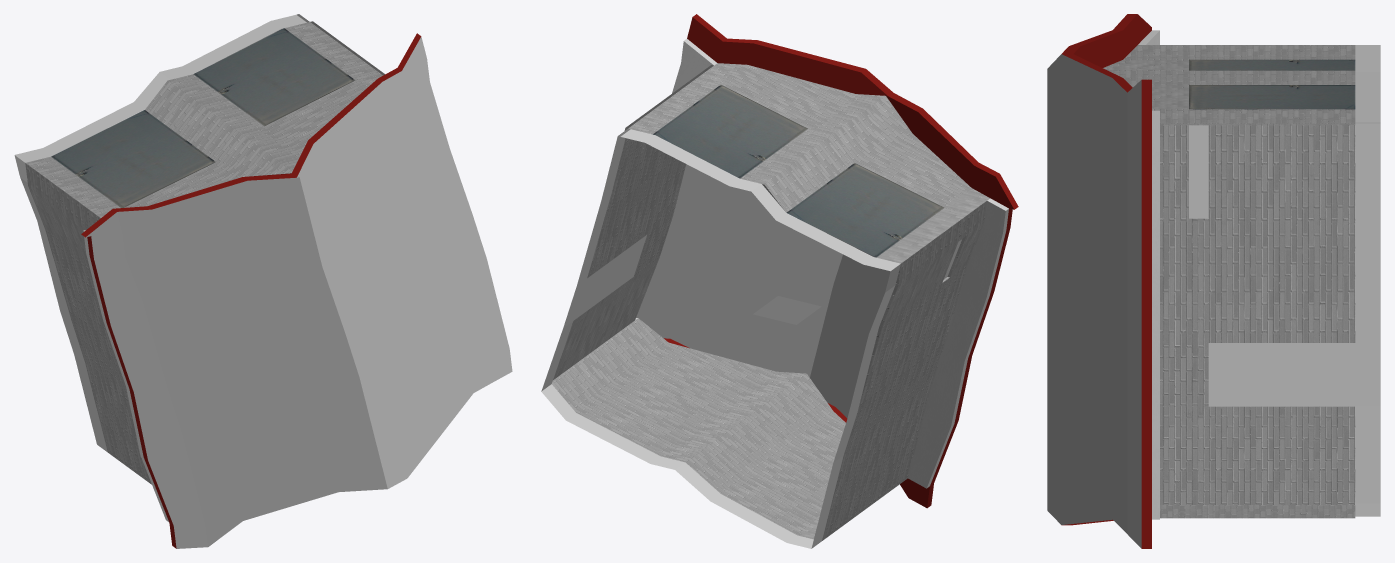
The model's file is Tpea8a_2-origo.obj.
3 views of the same model, side by side, from view 1: azimuth 30°, elevation 25°; view 2: azimuth 150°, elevation 25°; view 3: azimuth 270°, elevation 25° (orthographic). The views are drawn at different scales.
Parts seen in each view (by area): view 1: polySurface2; view 2: polySurface2; view 3: polySurface2.
Part boxes in pixels (box(x1,y1,x2,y2)): polySurface2: box(14, 14, 512, 548); polySurface2: box(541, 14, 1018, 548); polySurface2: box(1047, 14, 1380, 548).
Bounding box in the file's own units: 9.38 × 9.5 × 5.43.
